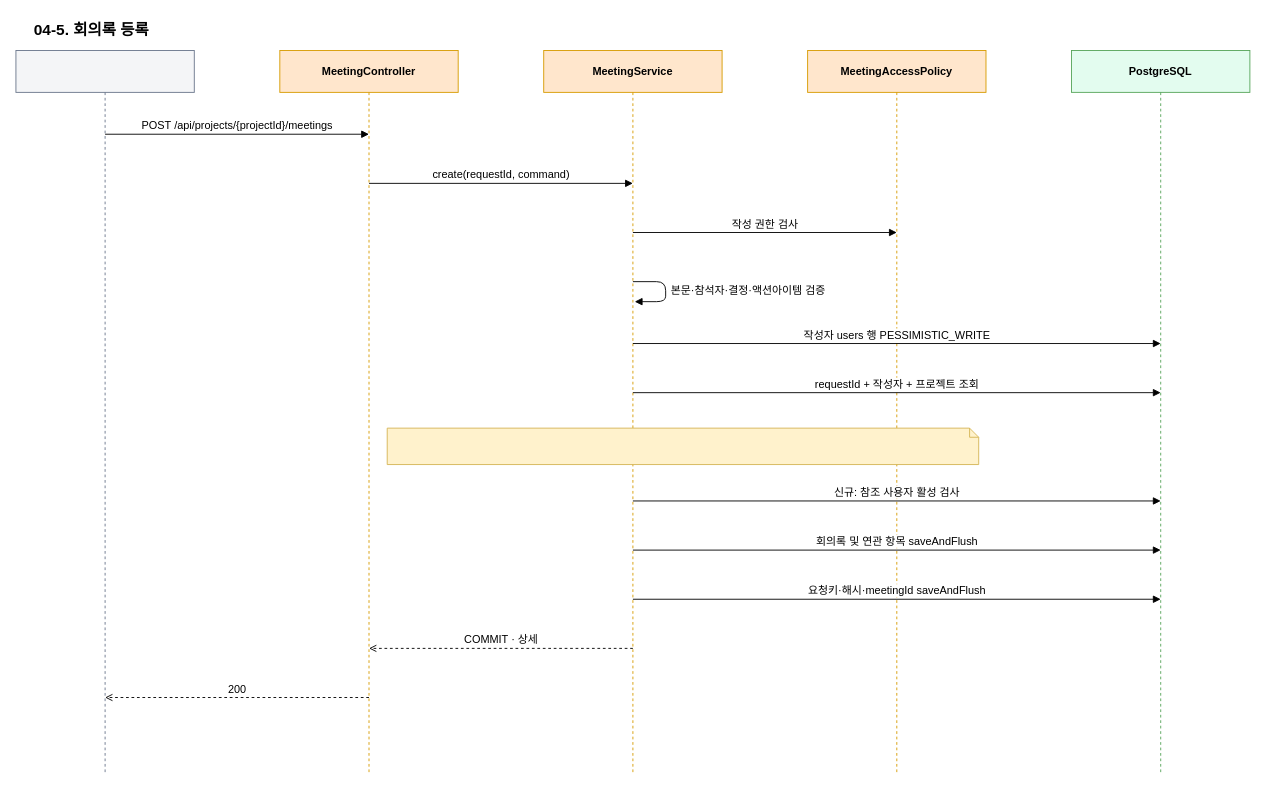
The diagram is 1266 pixels wide and 790 high, and some of its shapes have lost their labels. The box of each missing label's shape, as (x1, y1, x2, y2) in pixels:
FE: (15, 50, 194, 774)
동일 해시: 기존 상세 반환 / 다른 해시: 충돌 / 삭제된 요청: 거부: (386, 427, 979, 465)
